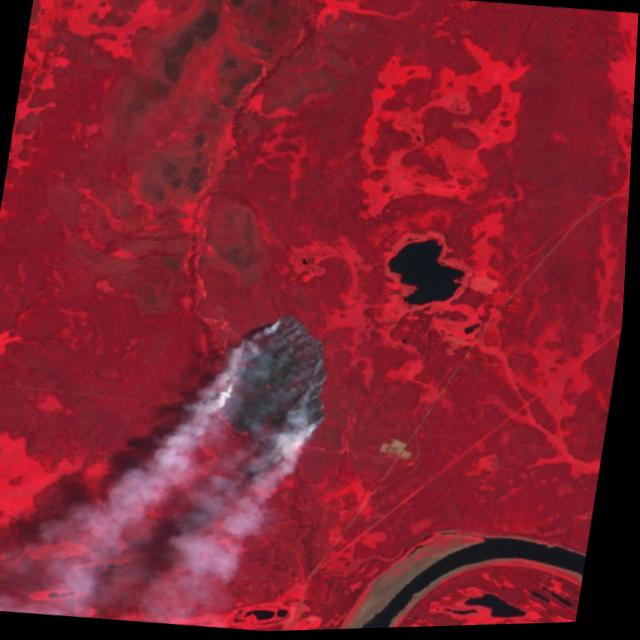fire: (205, 308, 344, 459)
